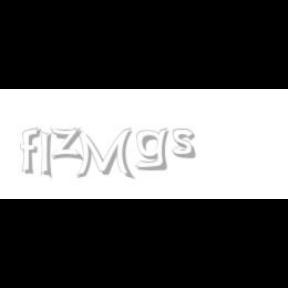I: (40, 128, 54, 180)
M: (74, 128, 132, 180)
f: (20, 128, 44, 174)
g: (136, 128, 172, 171)
s: (172, 128, 200, 160)
z: (50, 128, 86, 160)
